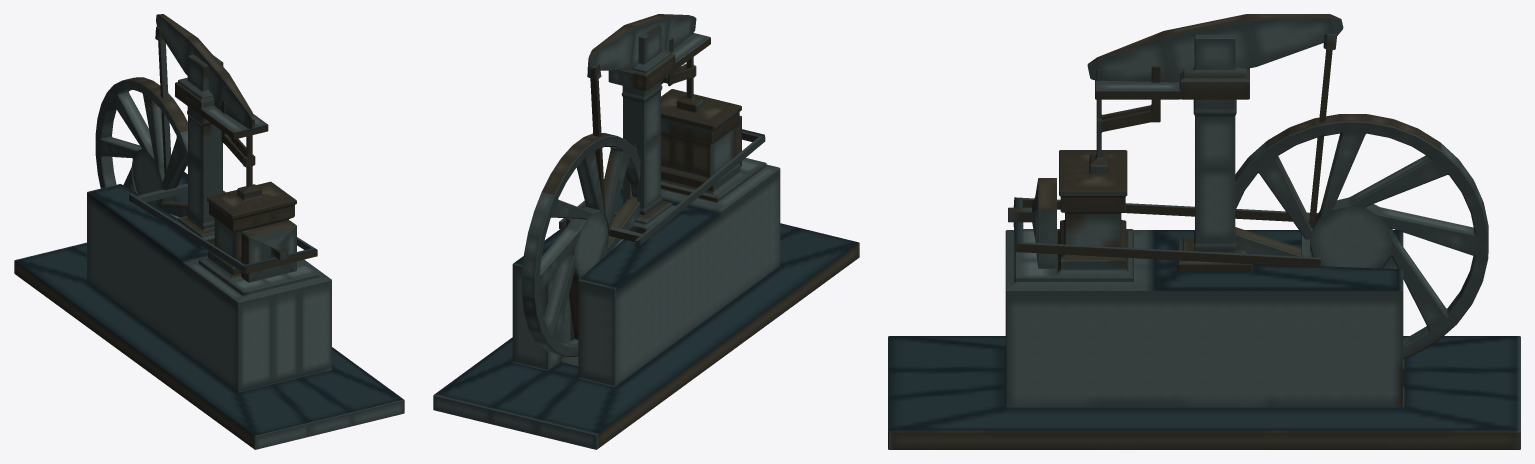
Rendered from Background_Steam_Machine.obj.
The picture shows the model from 3 angles, left to right: view 1: azimuth 30°, elevation 25°; view 2: azimuth 150°, elevation 25°; view 3: azimuth 270°, elevation 25°; orthographic projection. The views are drawn at different scales.
Parts seen in each view (by area): view 1: Cylinder; view 2: Cylinder; view 3: Cylinder.
Boxes of the visible parts, bbox=[...] form: Cylinder: bbox=[14, 14, 404, 449]; Cylinder: bbox=[433, 14, 859, 449]; Cylinder: bbox=[888, 14, 1520, 449].
Size of the model in its own units: 0.4785 by 0.8981 by 1.33.
Materials: 1 (1 with a texture image).
